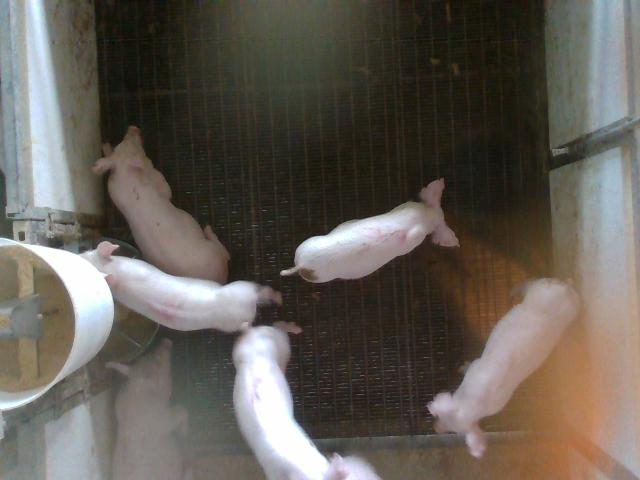pig-4: (81, 241, 281, 332)
pig-5: (280, 179, 459, 282)
